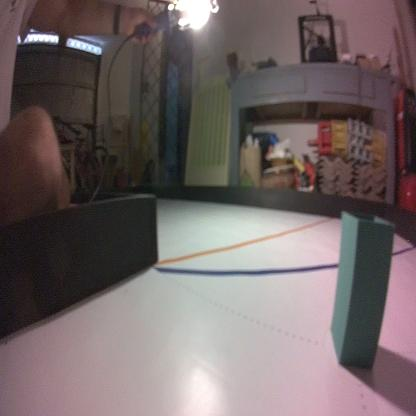green: (329, 210, 394, 376)
